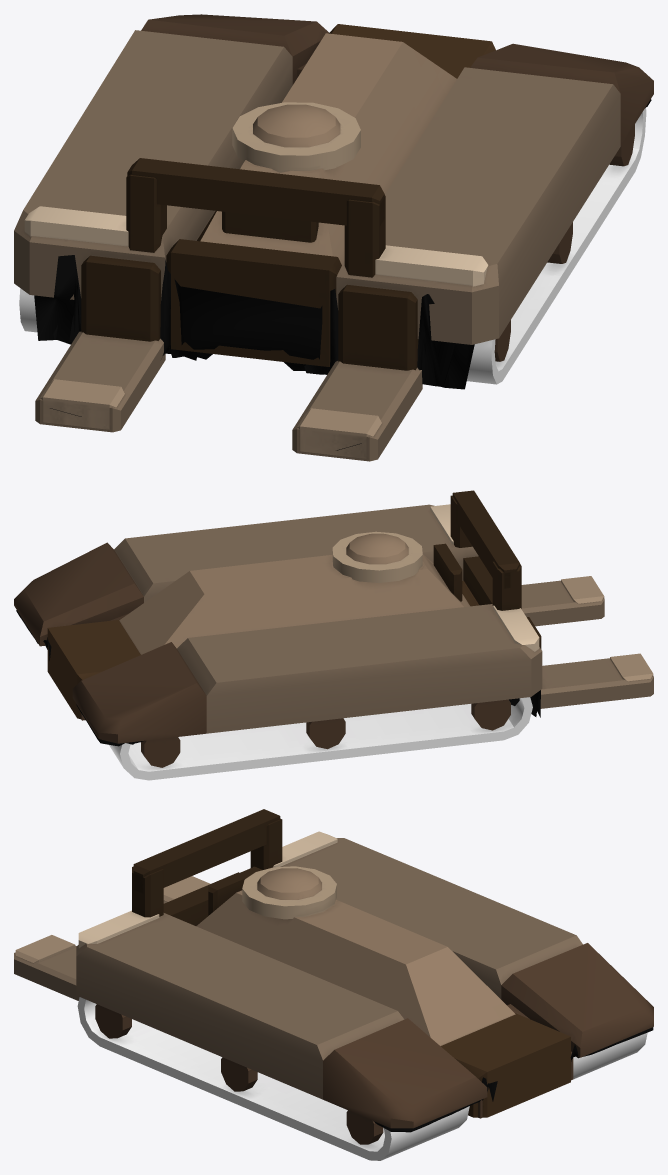
Rendered from newsh3-14-f8.glb.
The picture shows the model from 3 angles, top to bottom: view 1: azimuth 30°, elevation 25°; view 2: azimuth 150°, elevation 25°; view 3: azimuth 270°, elevation 25°; orthographic projection. The views are drawn at different scales.
Visible parts, largest first — view 1: newsh3-14-f8, newsh3-14-f8_outline; view 2: newsh3-14-f8, newsh3-14-f8_outline; view 3: newsh3-14-f8, newsh3-14-f8_outline.
Boxes of the visible parts, x1,y1,x2,y2 form: newsh3-14-f8: [14, 14, 653, 461]; newsh3-14-f8_outline: [34, 99, 651, 450]; newsh3-14-f8: [14, 490, 653, 780]; newsh3-14-f8_outline: [16, 610, 540, 746]; newsh3-14-f8: [14, 809, 653, 1160]; newsh3-14-f8_outline: [373, 1027, 653, 1132].
Bounding box in the file's own units: 1.48 × 0.3708 × 1.48.
Materials: 12 (11 with a texture image).
